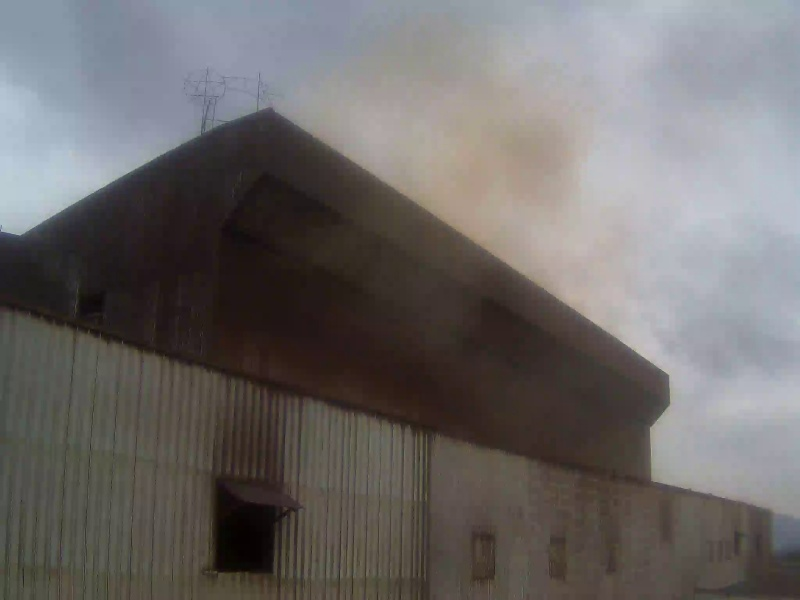bom: (6, 14, 271, 155)
ruim: (333, 12, 637, 351)
